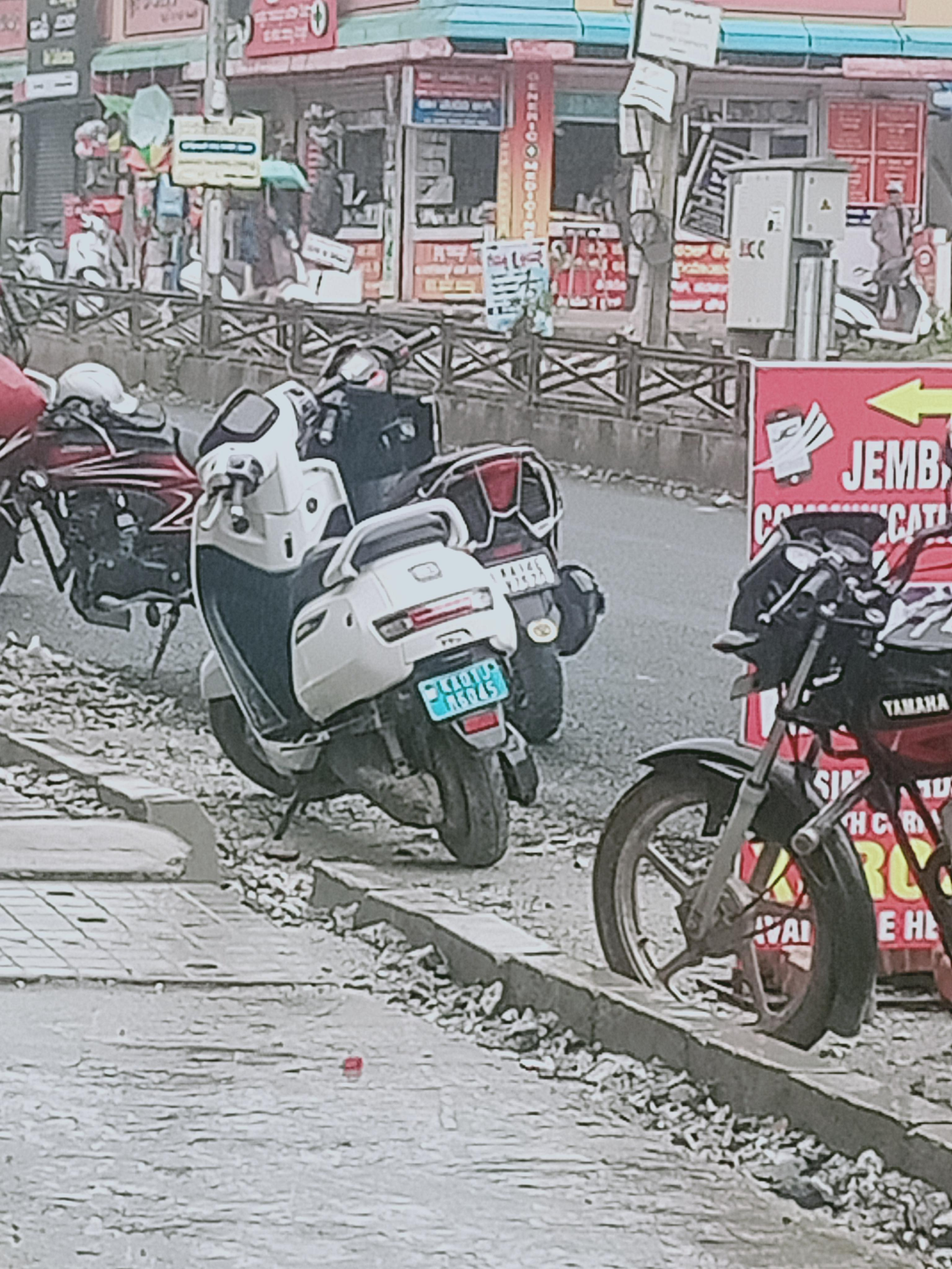green license plate: (416, 660, 507, 722)
